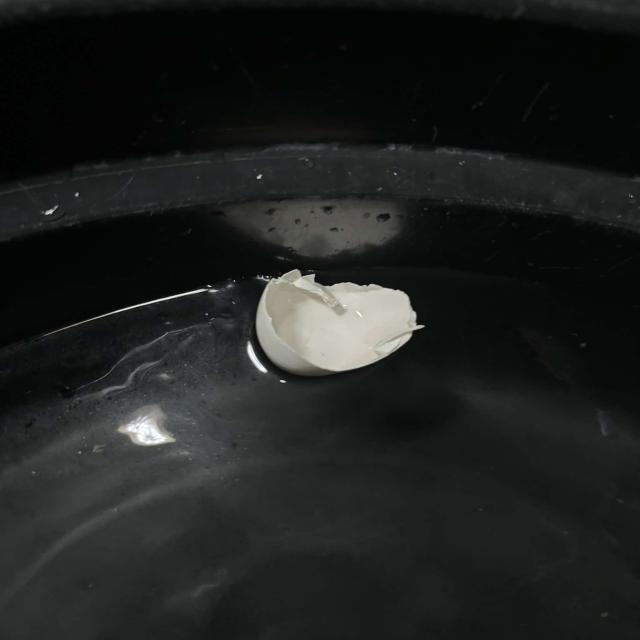Eggshell: (209, 232, 462, 409)
